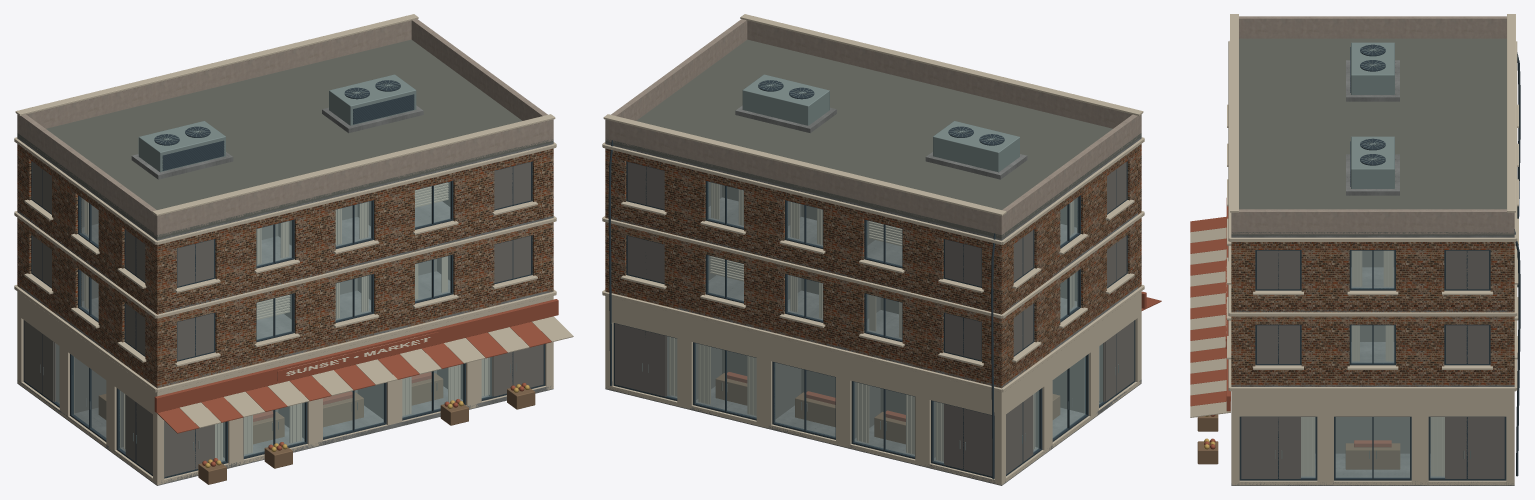
The model's file is sunset-market-v2.glb.
3 renders of one model, left to right at view 1: azimuth 30°, elevation 25°; view 2: azimuth 150°, elevation 25°; view 3: azimuth 270°, elevation 25°, orthographic.
Visible parts, largest first — view 1: Brick (×4), Roof_membrane, Limestone (×7), Plaster, Interior_plaster (×12), Recessed_clear_glass (×4), Concrete, Powder_coated_aluminium (×7), Terracotta_signage, Linen_curtains (×4), Weathered_teak (×2), Galvanised_metal (+1 smaller); view 2: Brick (×4), Limestone (×7), Roof_membrane, Interior_plaster (×12), Plaster, Recessed_clear_glass (×4), Concrete, Powder_coated_aluminium (×7), Linen_curtains (×3), Galvanised_metal, Weathered_teak; view 3: Roof_membrane, Brick (×6), Limestone (×9), Interior_plaster (×9), Plaster, Recessed_clear_glass (×3), Linen_curtains (×4), Powder_coated_aluminium (×4), Concrete, Terracotta_signage, Galvanised_metal, Weathered_teak (×2).
Boxes of the visible parts, x1=… form: Brick (×4): x1=17, y1=146, x2=553, y2=387; Roof_membrane: x1=17, y1=39, x2=553, y2=239; Limestone (×7): x1=14, y1=14, x2=556, y2=485; Plaster: x1=17, y1=19, x2=553, y2=236; Interior_plaster (×12): x1=24, y1=162, x2=543, y2=476; Recessed_clear_glass (×4): x1=56, y1=182, x2=491, y2=461; Concrete: x1=17, y1=105, x2=553, y2=485; Powder_coated_aluminium (×7): x1=23, y1=80, x2=545, y2=478; Terracotta_signage: x1=154, y1=299, x2=558, y2=466; Linen_curtains (×4): x1=179, y1=182, x2=573, y2=460; Weathered_teak (×2): x1=198, y1=373, x2=535, y2=484; Galvanised_metal: x1=138, y1=74, x2=416, y2=172; Brick (×4): x1=605, y1=146, x2=1137, y2=387; Limestone (×7): x1=602, y1=14, x2=1144, y2=485; Roof_membrane: x1=605, y1=39, x2=1141, y2=239; Interior_plaster (×12): x1=615, y1=162, x2=1134, y2=476; Plaster: x1=605, y1=19, x2=1141, y2=236; Recessed_clear_glass (×4): x1=667, y1=182, x2=1102, y2=463; Concrete: x1=605, y1=105, x2=1141, y2=485; Powder_coated_aluminium (×7): x1=608, y1=80, x2=1135, y2=479; Linen_curtains (×3): x1=669, y1=183, x2=943, y2=461; Galvanised_metal: x1=742, y1=74, x2=1019, y2=172; Weathered_teak: x1=715, y1=373, x2=905, y2=444; Roof_membrane: x1=1231, y1=38, x2=1514, y2=236; Brick (×6): x1=1231, y1=242, x2=1514, y2=386; Limestone (×9): x1=1227, y1=14, x2=1518, y2=485; Interior_plaster (×9): x1=1241, y1=250, x2=1504, y2=478; Plaster: x1=1231, y1=16, x2=1514, y2=234; Recessed_clear_glass (×3): x1=1301, y1=251, x2=1444, y2=477; Linen_curtains (×4): x1=1190, y1=227, x2=1444, y2=476; Powder_coated_aluminium (×4): x1=1239, y1=44, x2=1520, y2=480; Concrete: x1=1231, y1=60, x2=1514, y2=485; Terracotta_signage: x1=1190, y1=198, x2=1230, y2=449; Galvanised_metal: x1=1351, y1=42, x2=1394, y2=188; Weathered_teak (×2): x1=1197, y1=414, x2=1400, y2=469.
Bounding box in the file's own units: 18.34 × 11.98 × 12.83.
Materials: 14 (4 with a texture image).
